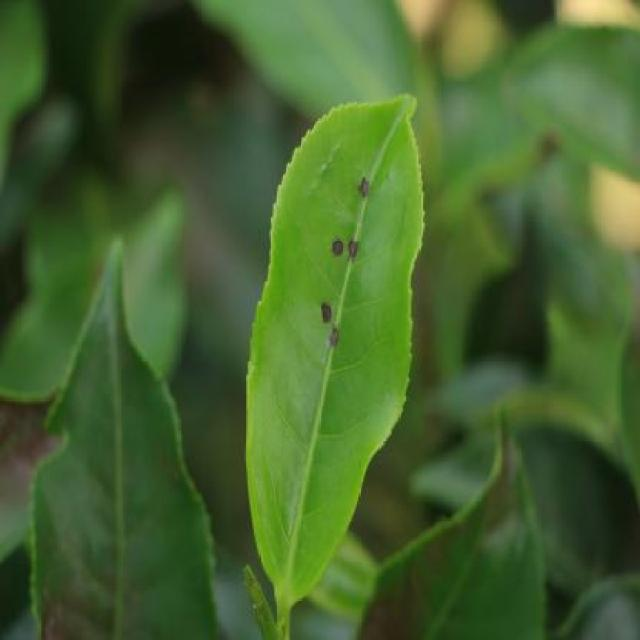Tea Mosquito bug infested leaf: (258, 102, 458, 626)
